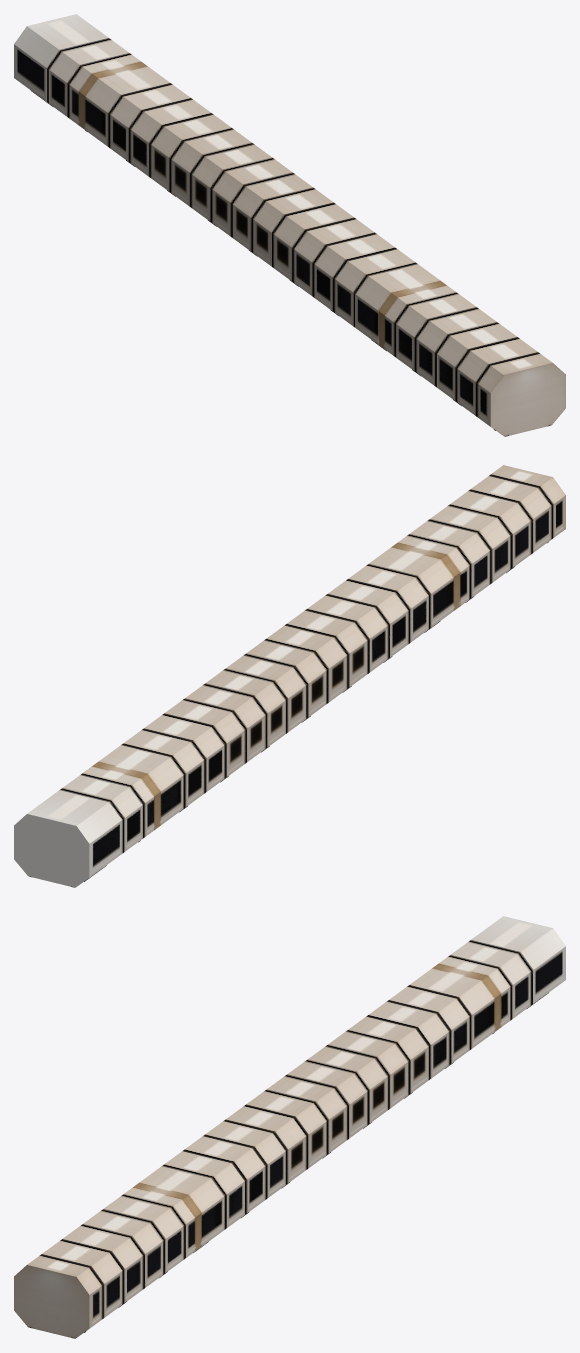
File: corridor.glb
3 renders of one model, top to bottom at view 1: azimuth 30°, elevation 25°; view 2: azimuth 150°, elevation 25°; view 3: azimuth 330°, elevation 25°, orthographic.
Visible parts, largest first — view 1: cor_baked; view 2: cor_baked; view 3: cor_baked.
Boxes of the visible parts, <box> form: cor_baked: <box>14,14,565,436</box>; cor_baked: <box>14,465,565,887</box>; cor_baked: <box>14,916,565,1338</box>.
Size of the model in its own units: 6.4 by 5.04 by 70.
Materials: 2 (1 with a texture image).
